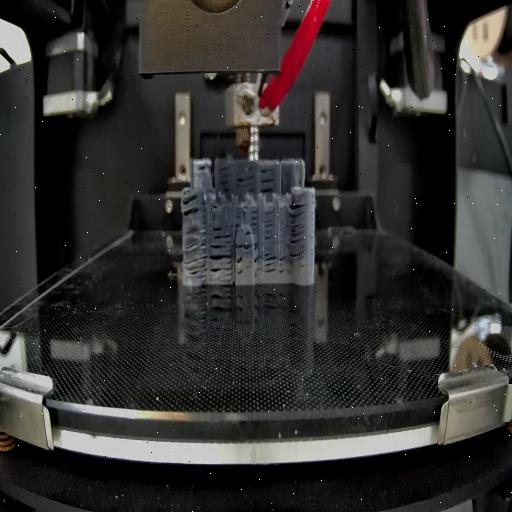cracks: (184, 226, 208, 280), (288, 201, 308, 261), (210, 246, 233, 278), (265, 250, 288, 278), (182, 196, 204, 218), (260, 167, 276, 195), (237, 171, 257, 192), (264, 210, 276, 244), (218, 166, 232, 194), (214, 225, 232, 243), (254, 242, 262, 268), (233, 210, 243, 228), (236, 243, 253, 253), (251, 209, 259, 229), (237, 258, 245, 276), (197, 164, 207, 172), (244, 230, 254, 236)
